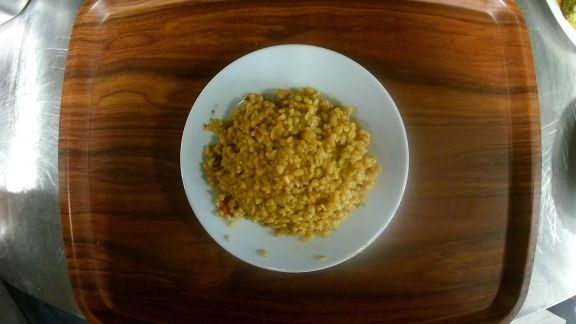bulgur: (181, 43, 410, 271)
